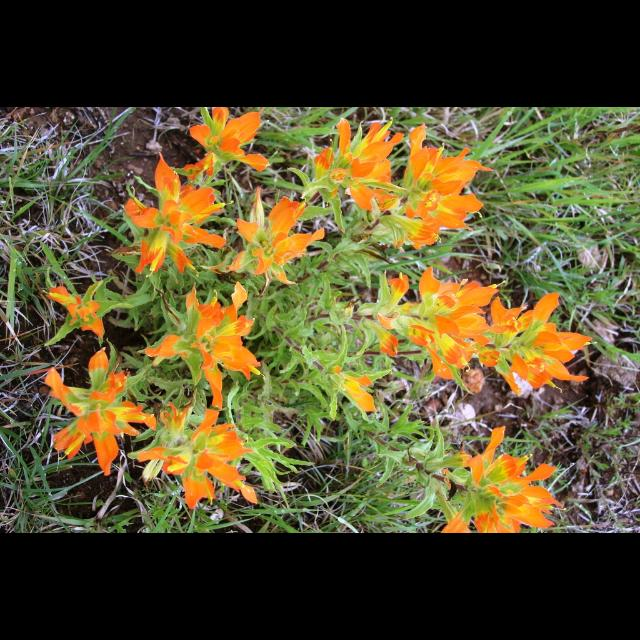Flower: (30, 107, 322, 511), (371, 266, 589, 392), (441, 428, 564, 534), (398, 124, 492, 246), (314, 117, 392, 207), (342, 370, 380, 416)
